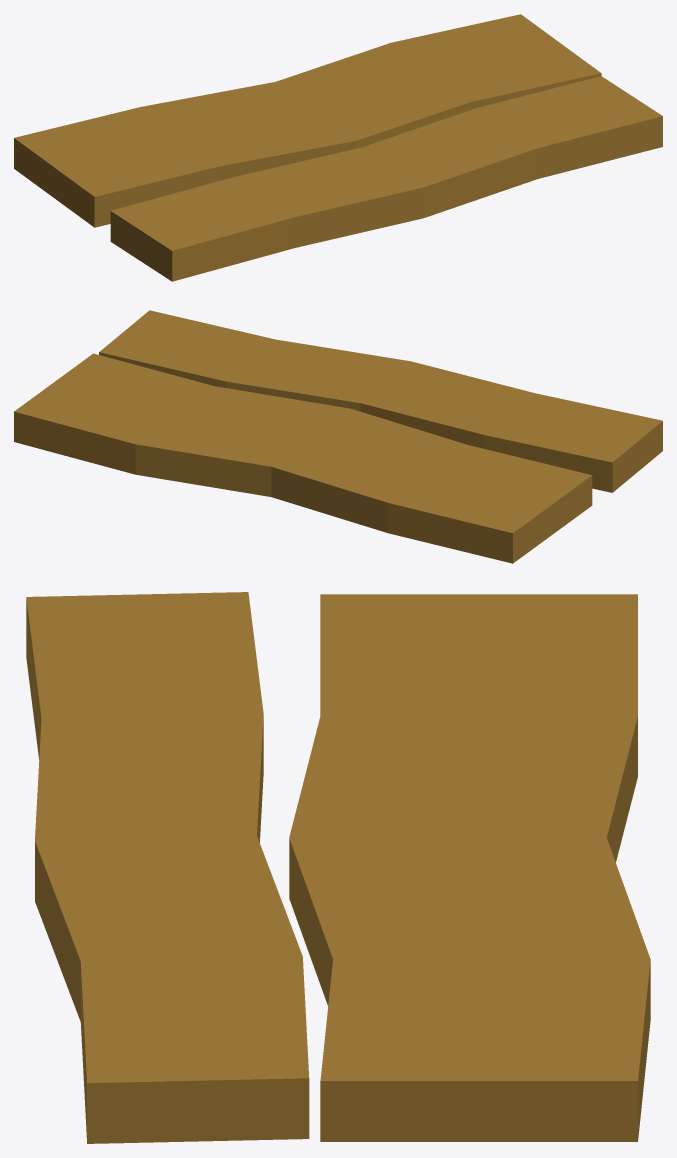
Rendered from Planks.fbx.
3 views of the same model, one above another, from view 1: azimuth 30°, elevation 25°; view 2: azimuth 150°, elevation 25°; view 3: azimuth 270°, elevation 25° (orthographic). The views are drawn at different scales.
Parts seen in each view (by area): view 1: Planks; view 2: Planks; view 3: Planks.
Boxes of the visible parts, left/top/right/bottom form: Planks: left=14, top=14, right=662, bottom=281; Planks: left=14, top=310, right=662, bottom=563; Planks: left=26, top=592, right=650, bottom=1143.
Bounding box in the file's own units: 732 × 42.23 × 393.
